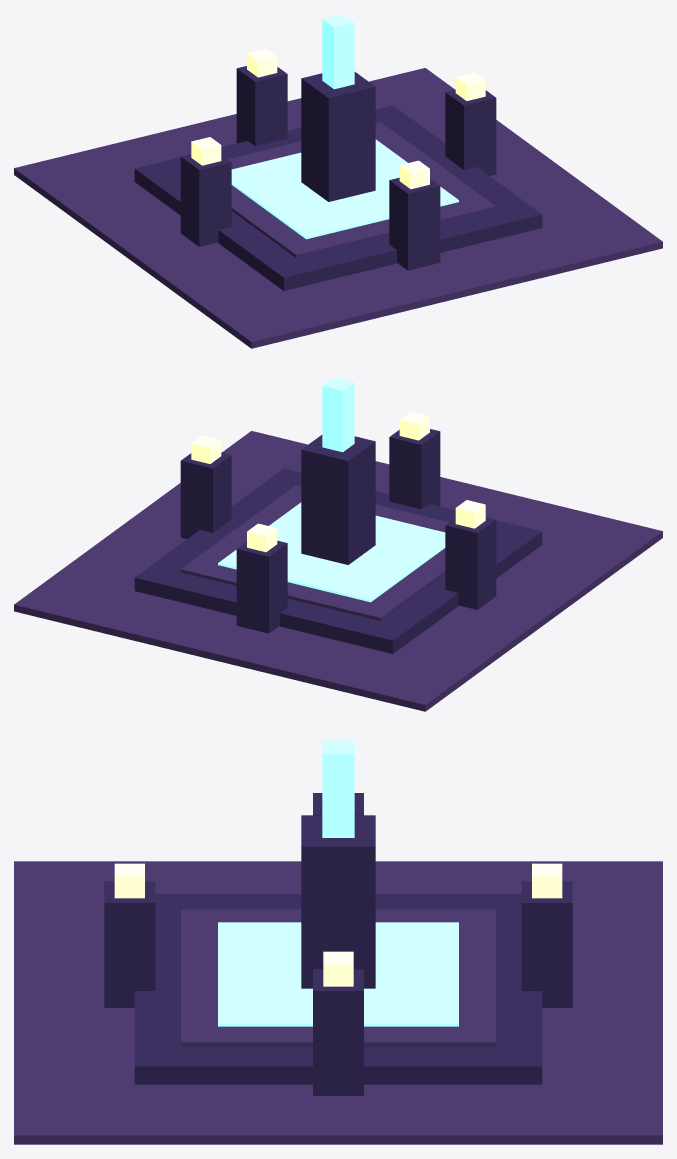
The model's file is 02_sunset_fountain_plaza.glb.
3 renders of one model, top to bottom at view 1: azimuth 30°, elevation 25°; view 2: azimuth 150°, elevation 25°; view 3: azimuth 270°, elevation 25°, orthographic. The views are drawn at different scales.
Visible parts, largest first — view 1: base_0, basin_outer_1, obelisk_4, water_glow_3, basin_inner_2, light_post_12, light_post_6, light_post_8, light_post_10, fountain_core_5, light_cube_7, light_cube_13 (+2 smaller); view 2: base_0, basin_outer_1, obelisk_4, water_glow_3, basin_inner_2, light_post_10, light_post_6, light_post_8, light_post_12, fountain_core_5, light_cube_7, light_cube_11 (+2 smaller); view 3: base_0, basin_outer_1, water_glow_3, basin_inner_2, obelisk_4, light_post_8, light_post_10, light_post_12, fountain_core_5, light_cube_9, light_cube_11, light_cube_13.
Boxes of the visible parts, x1,y1,x2,y2 form: base_0: (14,68,662,348); basin_outer_1: (134,105,542,290); obelisk_4: (301,72,375,201); water_glow_3: (231,139,458,239); basin_inner_2: (228,122,495,257); light_post_12: (389,177,440,270); light_post_6: (180,154,231,246); light_post_8: (445,89,496,175); light_post_10: (236,66,287,146); fountain_core_5: (322,14,354,89); light_cube_7: (191,137,221,165); light_cube_13: (399,160,429,189); base_0: (14,431,662,711); basin_outer_1: (134,468,542,653); obelisk_4: (301,435,375,564); water_glow_3: (218,502,445,602); basin_inner_2: (181,485,448,620); light_post_10: (236,540,287,633); light_post_6: (445,517,496,609); light_post_8: (180,452,231,538); light_post_12: (389,429,440,509); fountain_core_5: (322,377,354,452); light_cube_7: (455,500,485,528); light_cube_11: (247,523,277,552); base_0: (14,861,662,1144); basin_outer_1: (134,894,542,1084); water_glow_3: (218,922,458,1026); basin_inner_2: (181,909,495,1046); obelisk_4: (301,815,375,988); light_post_8: (313,969,363,1095); light_post_10: (521,881,572,1007); light_post_12: (104,881,155,1007); fountain_core_5: (322,740,354,837); light_cube_9: (323,951,353,986); light_cube_11: (532,863,562,898); light_cube_13: (114,863,144,898).
Bounding box in the file's own units: 14 × 6.2 × 14.
